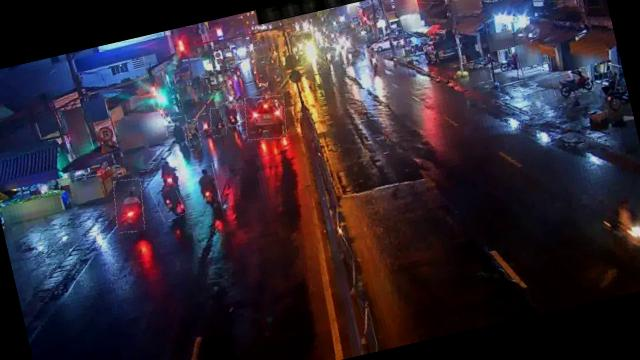Bike: (109, 176, 150, 234), (189, 163, 224, 221), (150, 177, 186, 223), (551, 68, 593, 100), (453, 57, 493, 88), (152, 155, 182, 194), (164, 116, 191, 150), (207, 106, 230, 137), (219, 100, 243, 129), (182, 118, 202, 150), (196, 114, 214, 142), (366, 53, 381, 79)
Car: (240, 91, 291, 144)
